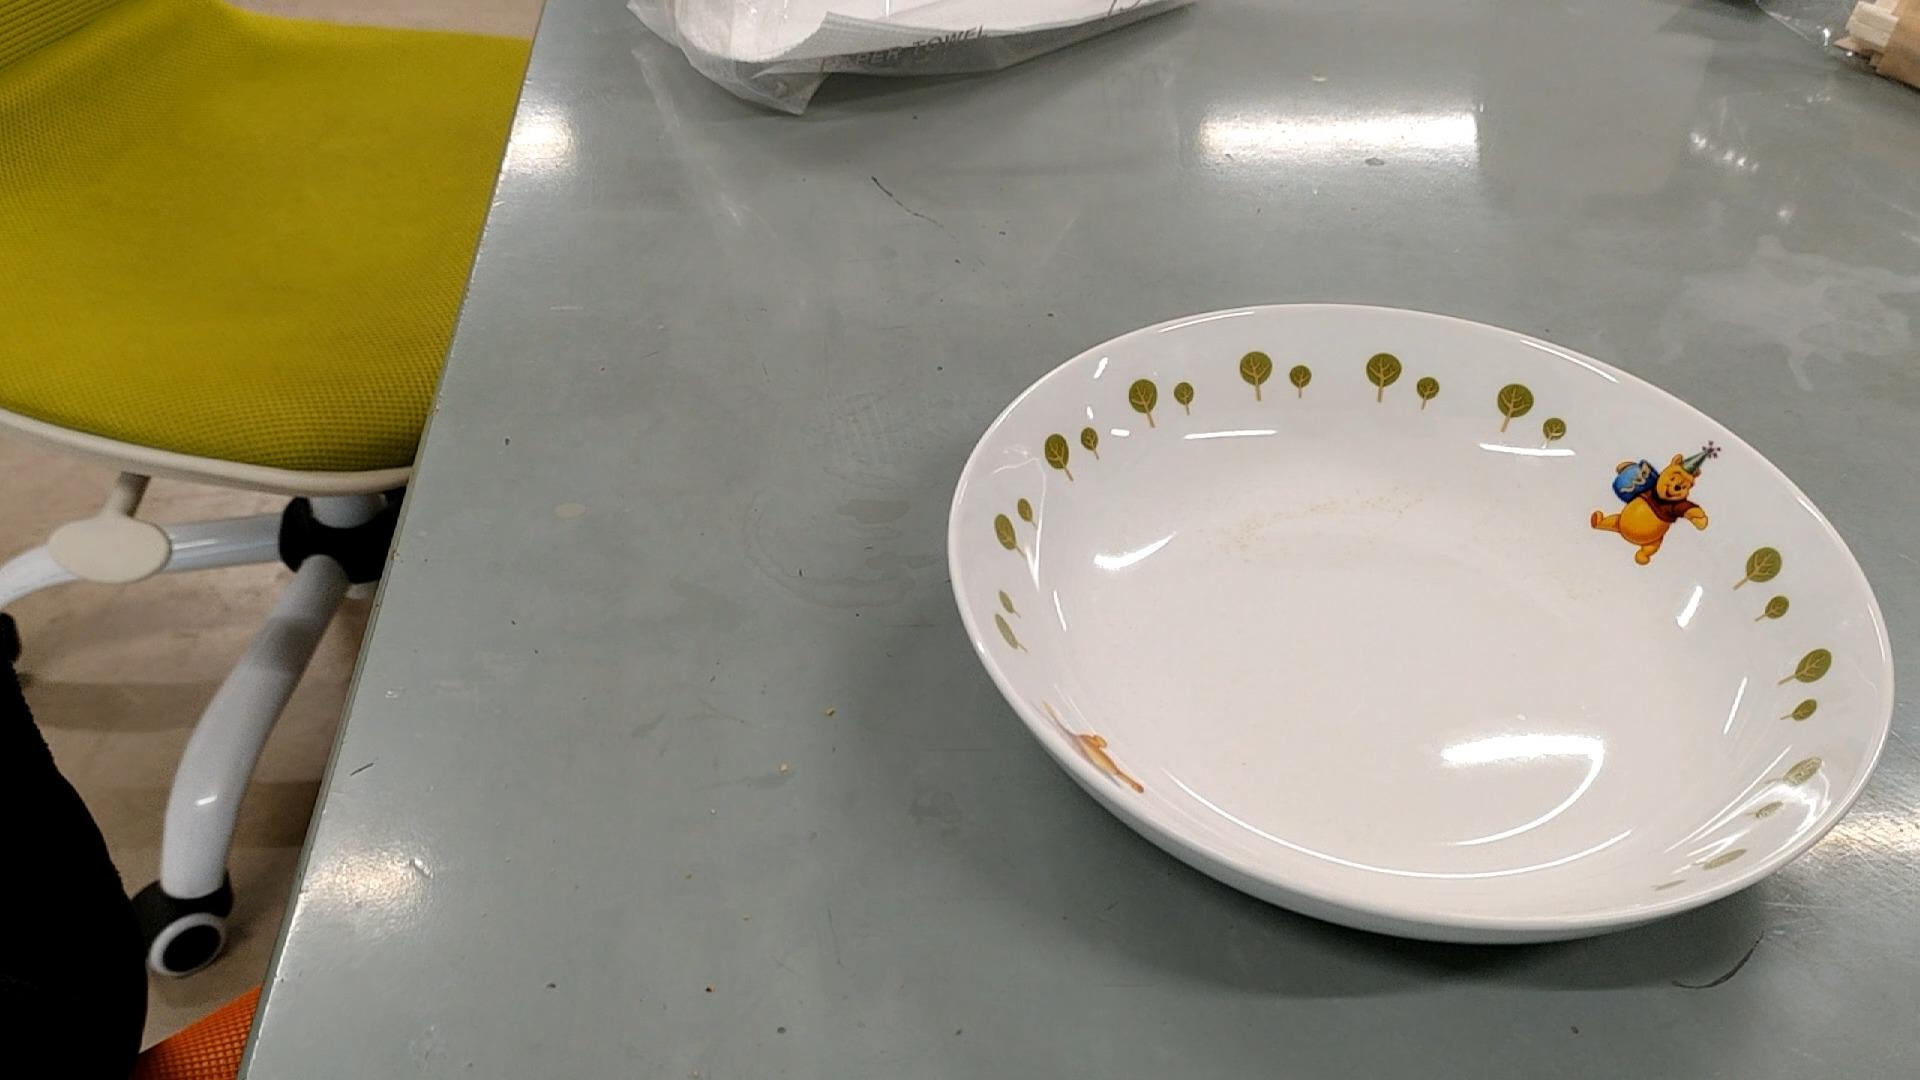plate: (945, 298, 1898, 949)
